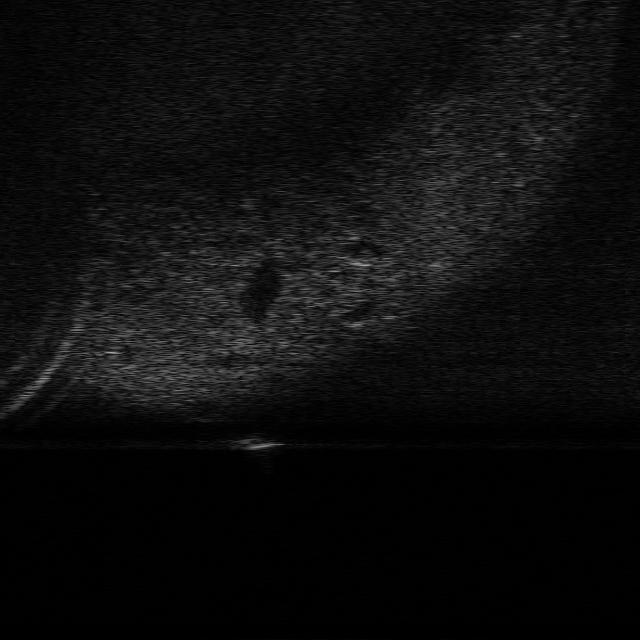cube: (226, 429, 282, 452)
